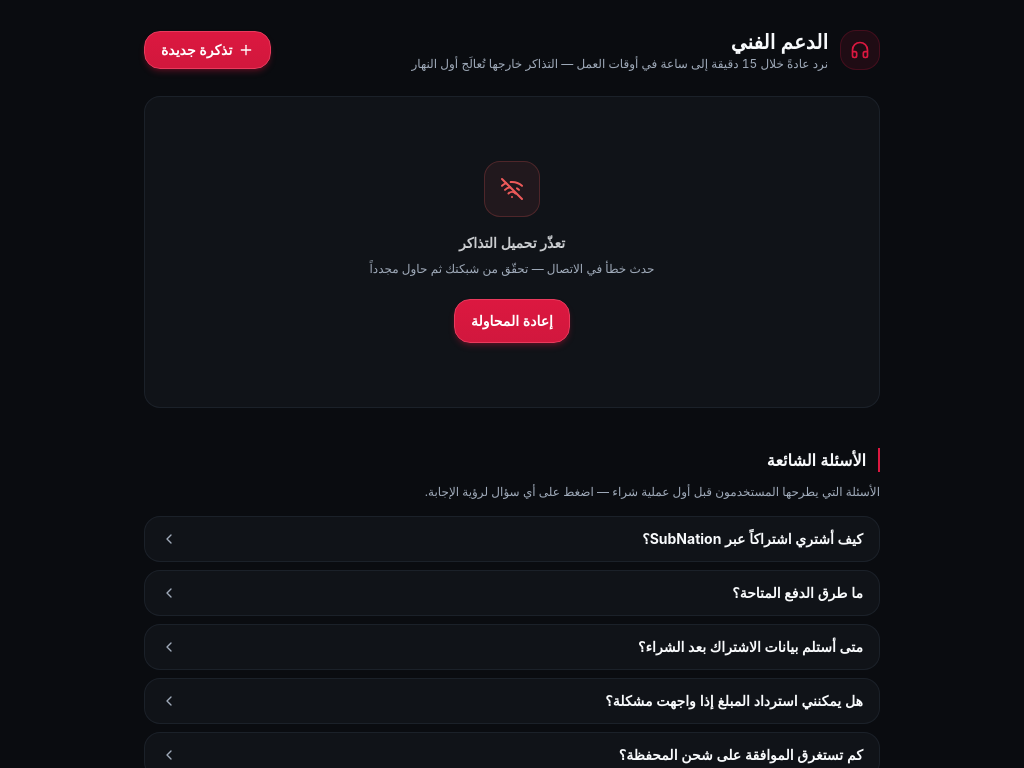
Test case: SupportPage — ?ticket= deep link auto-opens the thread (A9-1, R126-L6) › a FAILED first list fetch does not consume the link — a successful retry still opens the thread (B13 minor-2, R128-IMP-5)
The image size is (1024, 768).
Expected: the text "تعذّر تحميل التذاكر" is shown, [459,234,565,251]
What coordinates should you click on to do the following:
click the button "إعادة المحاولة"
I would click on:
 (512, 320)
Its box is [454,298,570,342].
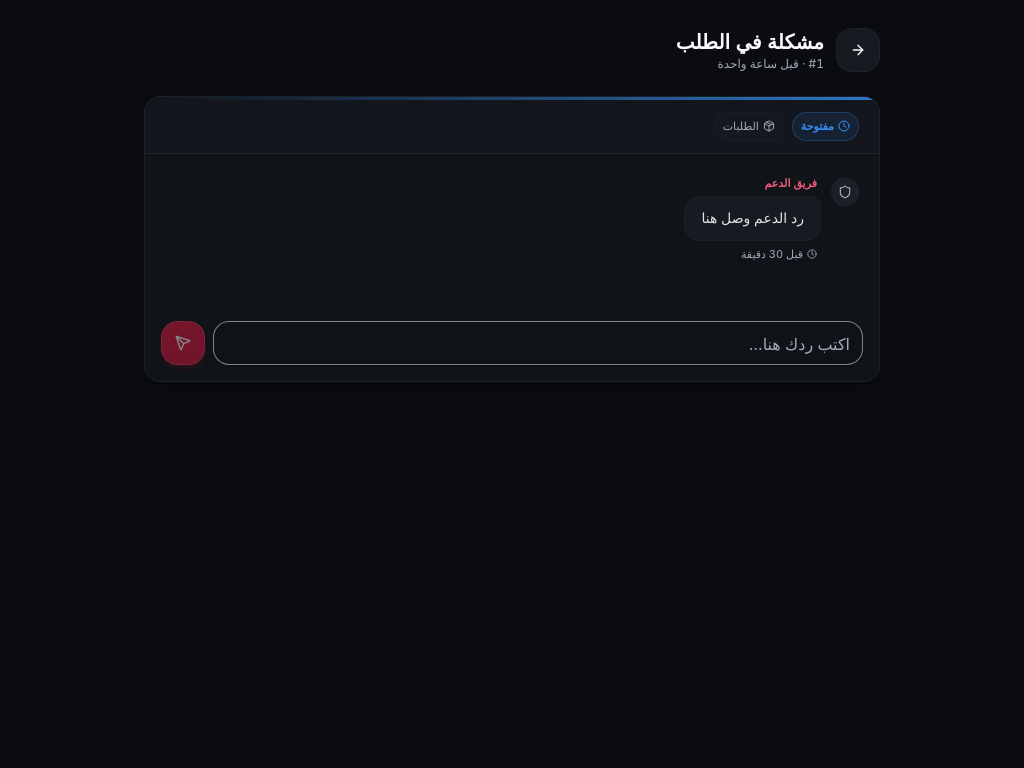
Result: the text "رد الدعم وصل هنا" is shown at [684,196,821,241]
